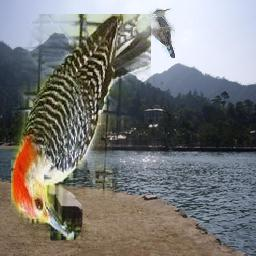Cuckoo: (147, 8, 176, 58)
Woodpecker: (11, 14, 151, 240)
